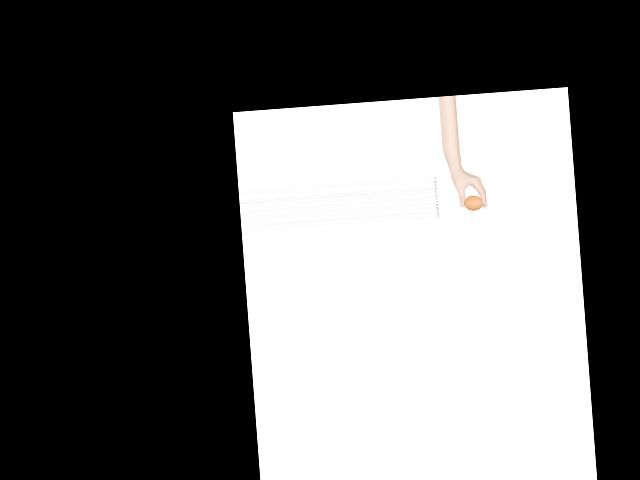egg: (463, 195, 484, 211)
